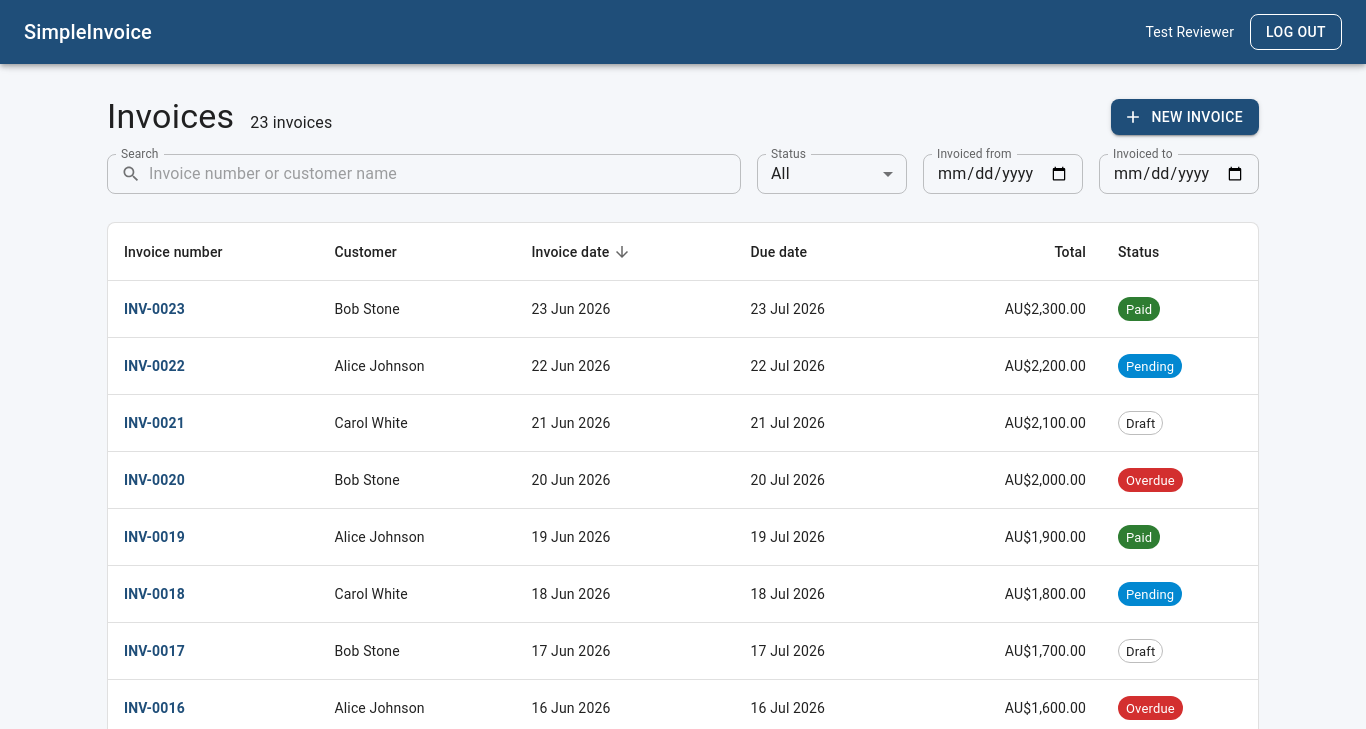
Test: InvoiceCreatePage › getting to the form › is opened from the New invoice button on the list
Click the link "New invoice": (1185, 117) left=1111, top=99, right=1259, bottom=135
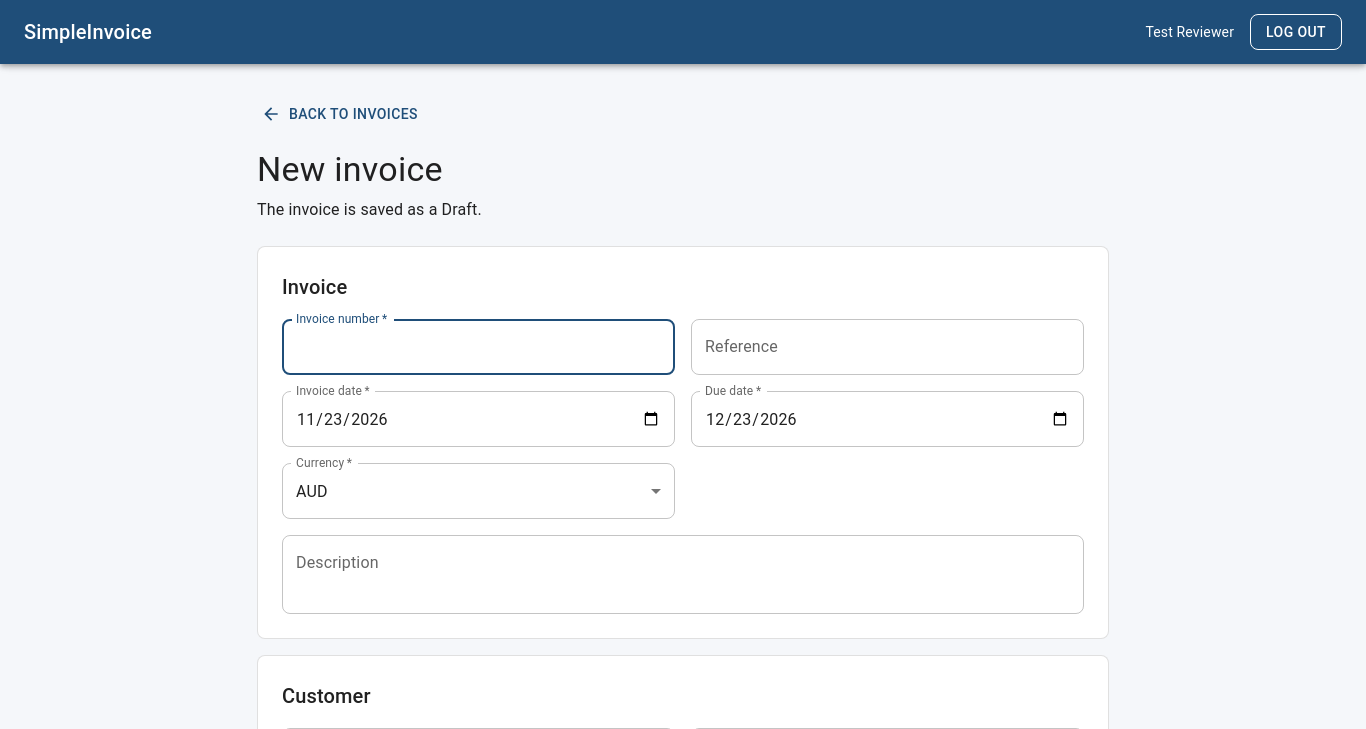
Expected: the heading "New invoice" is shown, left=257, top=148, right=443, bottom=188
